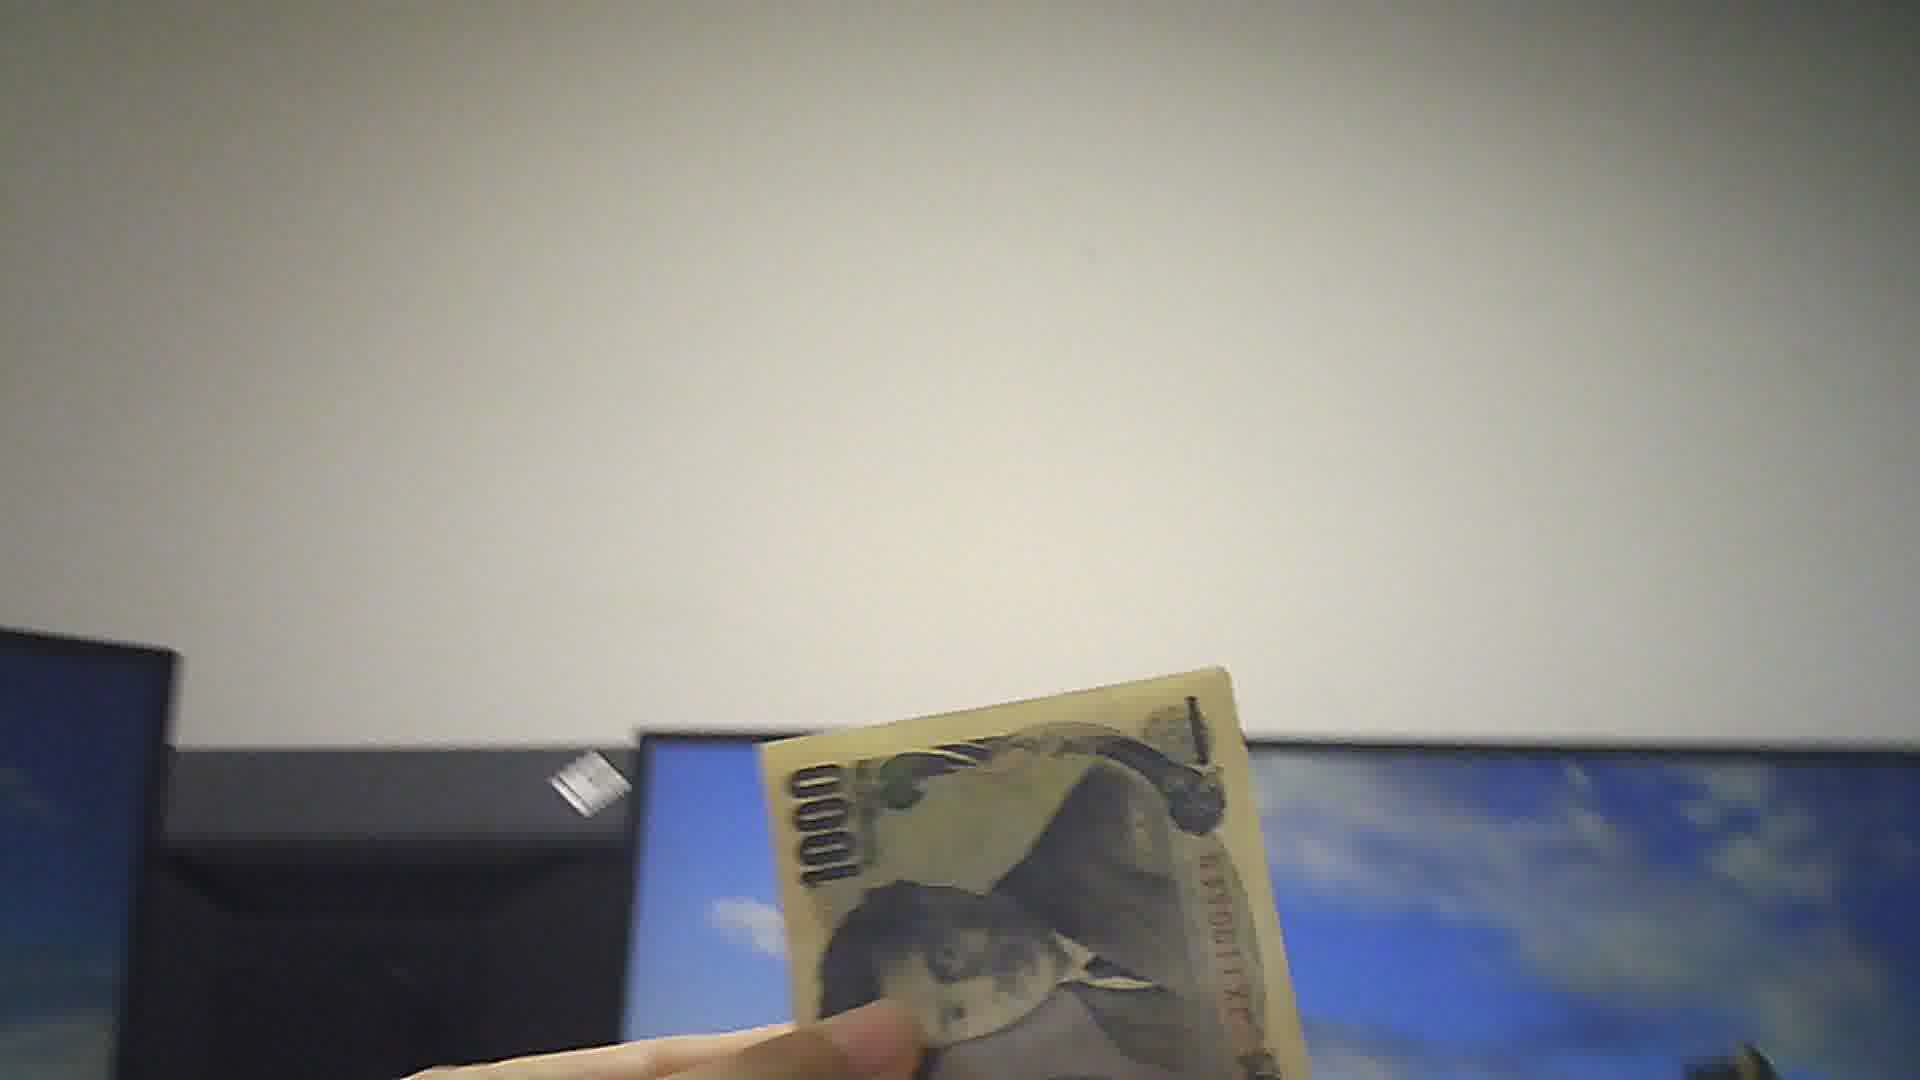1,000 Yen: (764, 682, 1300, 1079)
